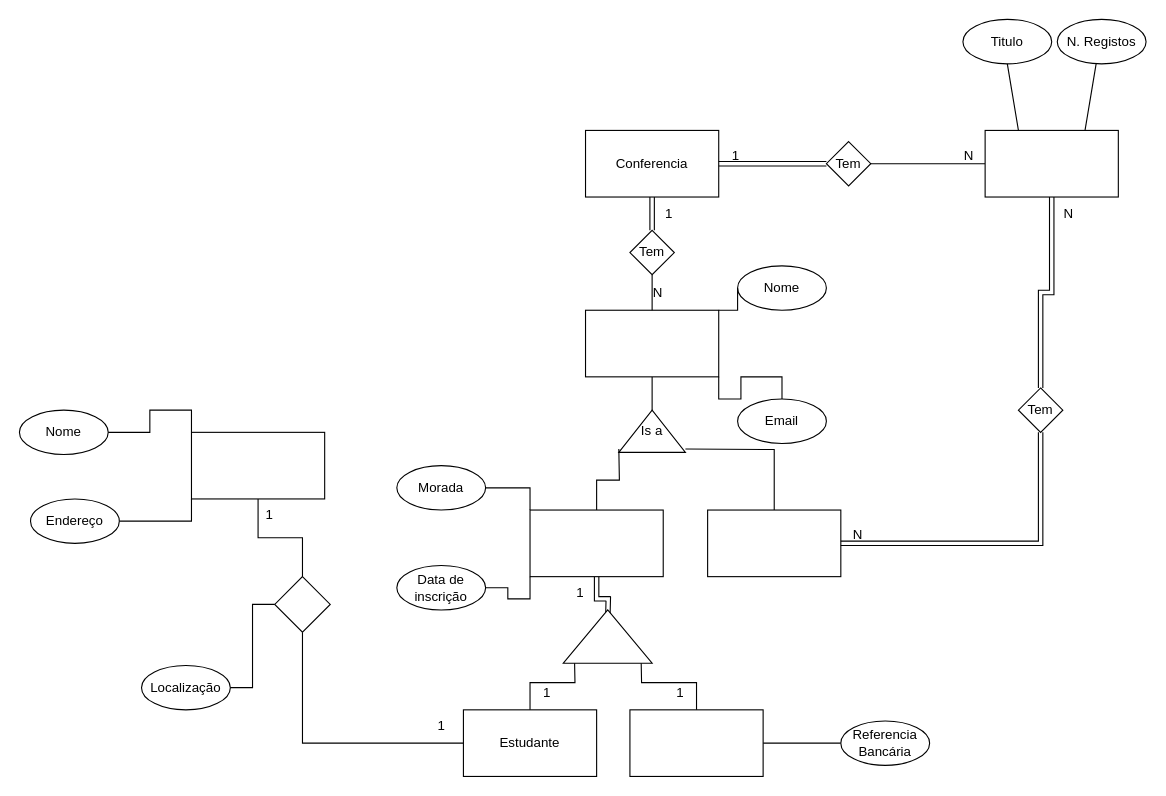
The diagram is 1166 pixels wide and 796 high, and some of its shapes have lost their labels. Each missing label, with the centre of its shape:
"Artigos Científicos" goes at pixel 1051 163.
"Autor" goes at pixel 774 543.
"Emite" goes at pixel 302 604.
"Instituição" goes at pixel 257 465.
"Is a Disjoint" goes at pixel 607 636.
"Não Estudante" goes at pixel 696 742.
"Participante" goes at pixel 596 543.
"Pessoa" goes at pixel 651 343.
